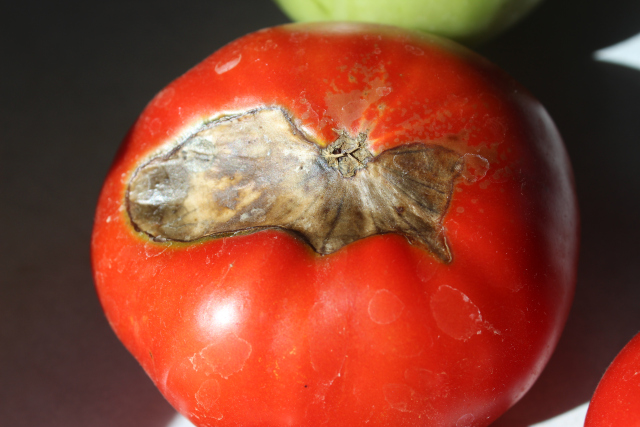blossom_rotw: (133, 107, 521, 316)
